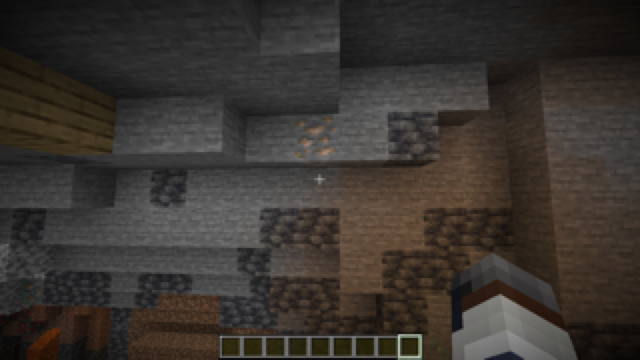iron: (292, 114, 340, 162)
